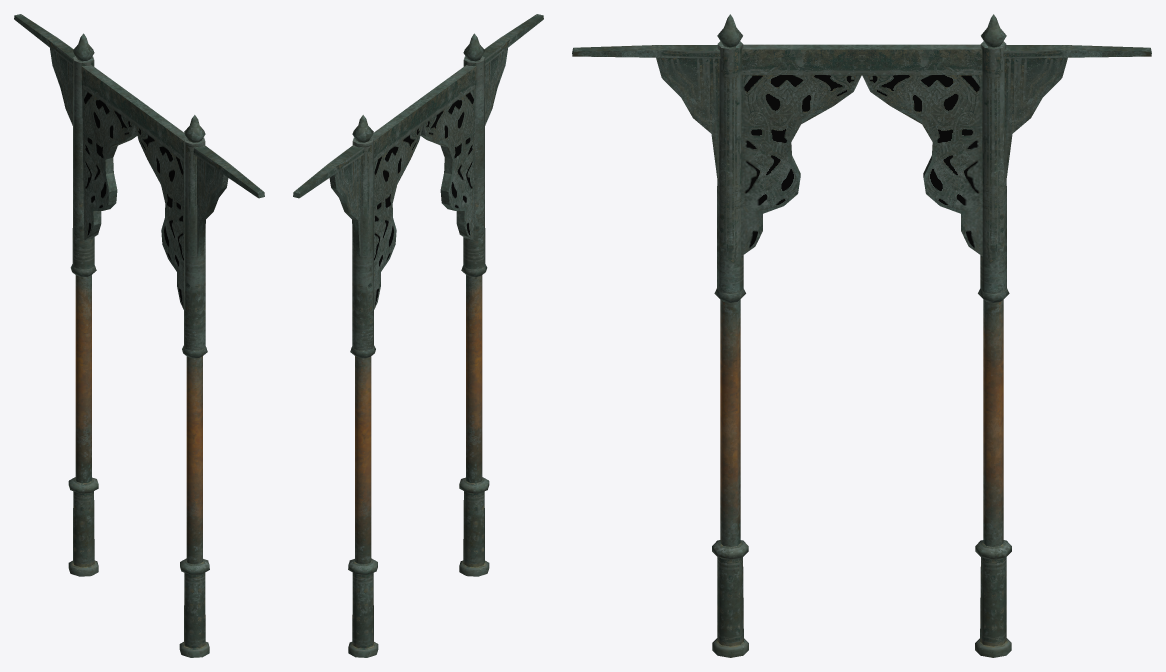
Rendered from dreadnought-hull.glb.
3 views of the same model, side by side, from view 1: azimuth 30°, elevation 25°; view 2: azimuth 150°, elevation 25°; view 3: azimuth 270°, elevation 25° (orthographic). The views are drawn at different scales.
Parts seen in each view (by area): view 1: dreadnought-hull_mesh; view 2: dreadnought-hull_mesh; view 3: dreadnought-hull_mesh.
Part boxes in pixels (x1=…): dreadnought-hull_mesh: x1=14, y1=14, x2=264, y2=657; dreadnought-hull_mesh: x1=293, y1=14, x2=543, y2=657; dreadnought-hull_mesh: x1=572, y1=14, x2=1151, y2=657.
Size of the model in its own units: 0.186 by 3.55 by 2.93.
1 material, 1 textured.
